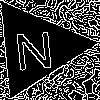N: (11, 22, 56, 71)
